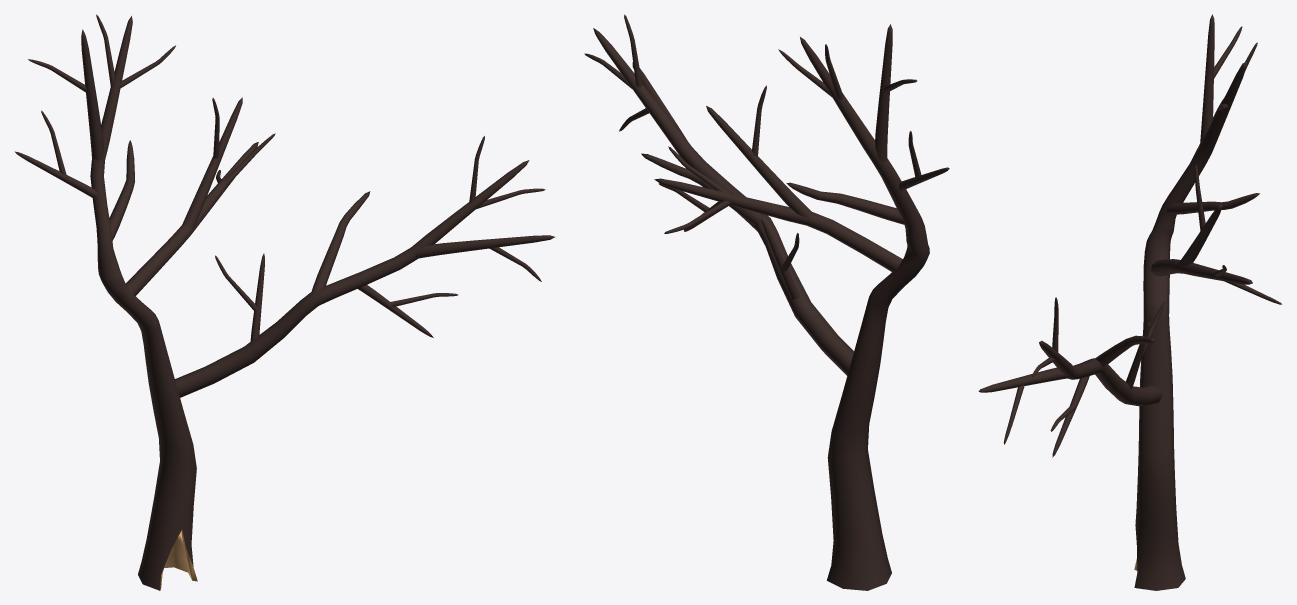
File: dead_tree_with_hole.fbx
The picture shows the model from 3 angles, left to right: view 1: azimuth 30°, elevation 25°; view 2: azimuth 150°, elevation 25°; view 3: azimuth 270°, elevation 25°; orthographic projection. The views are drawn at different scales.
Visible parts, largest first — view 1: DeadTreeWithHole; view 2: DeadTreeWithHole; view 3: DeadTreeWithHole.
Boxes of the visible parts, x1,y1,x2,y2 form: DeadTreeWithHole: (15,14,554,590); DeadTreeWithHole: (584,14,949,590); DeadTreeWithHole: (978,14,1281,590).
Bounding box in the file's own units: 661 × 790 × 405.
